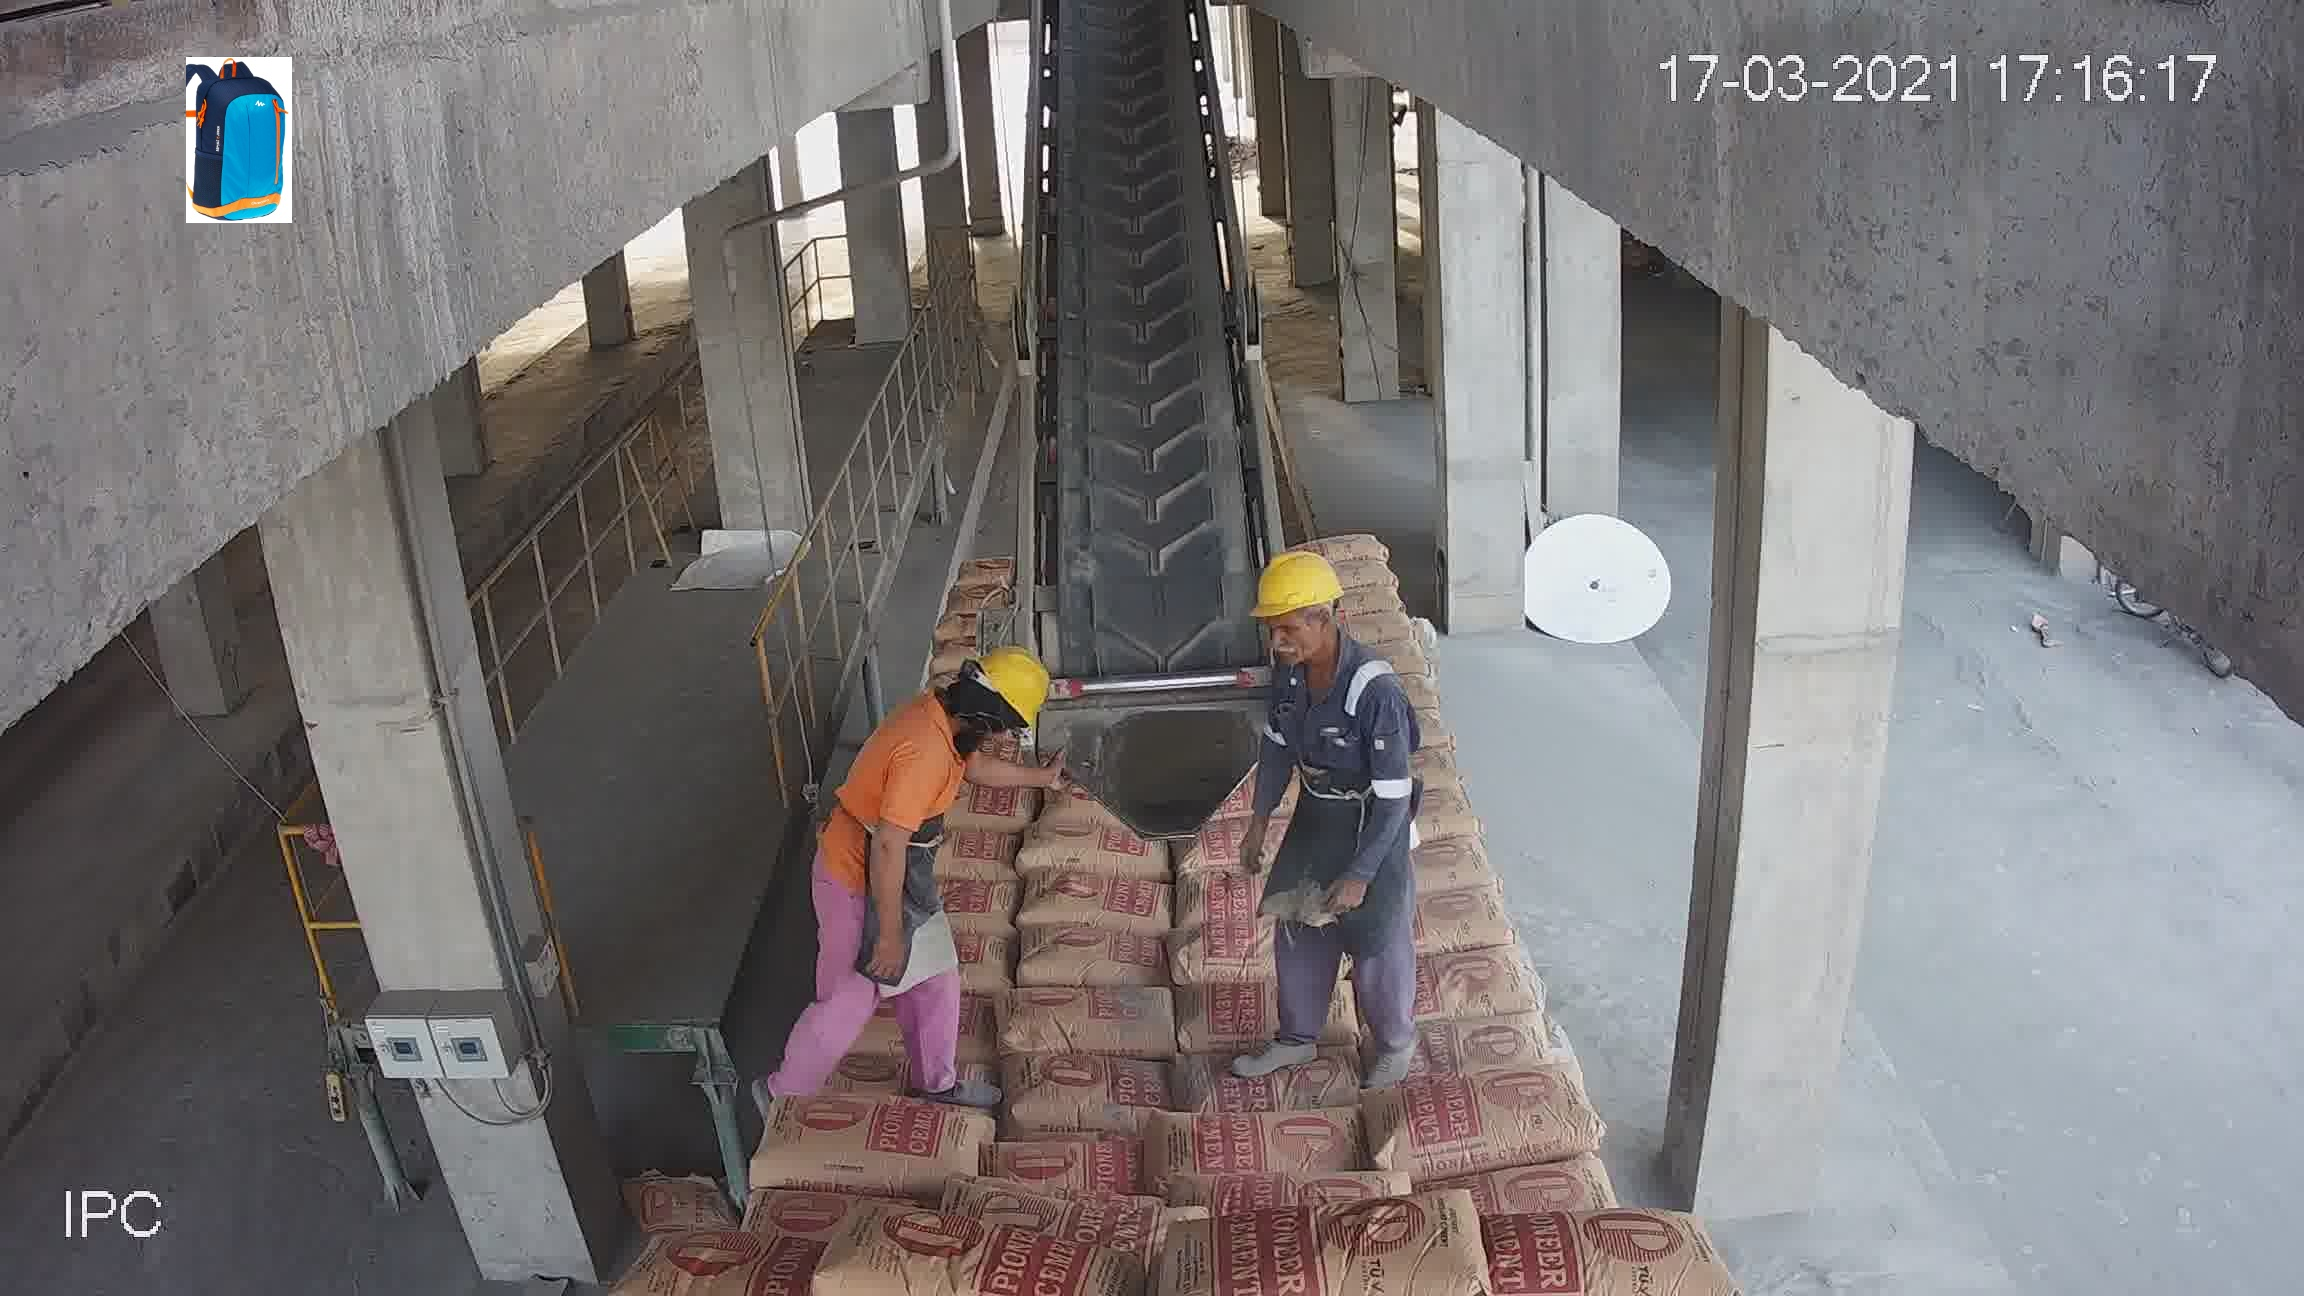bag_h: (794, 1215, 1135, 1296), (1361, 1065, 1592, 1180), (752, 1100, 999, 1196), (1157, 1109, 1372, 1185), (1192, 1040, 1367, 1119), (636, 1228, 845, 1294), (1002, 976, 1166, 1059), (1002, 1060, 1176, 1138), (997, 1135, 1169, 1203), (1416, 940, 1540, 1032), (1416, 1003, 1571, 1074), (1168, 908, 1294, 991), (1022, 869, 1177, 934), (1025, 926, 1176, 992), (1157, 864, 1287, 924), (1287, 524, 1404, 567)
belt: (1003, 43, 1282, 796)
